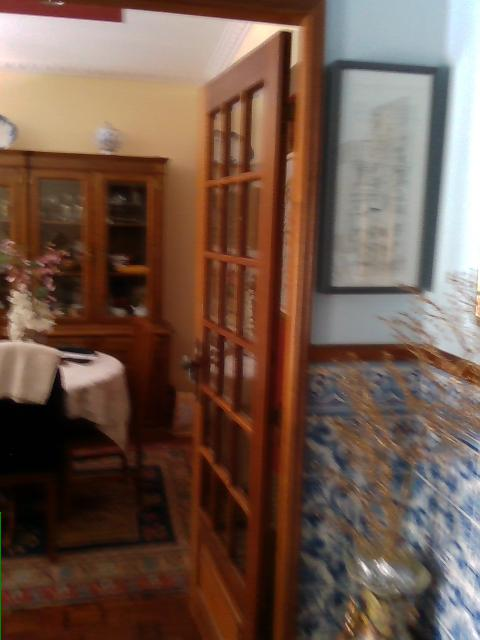door: (179, 31, 292, 640)
